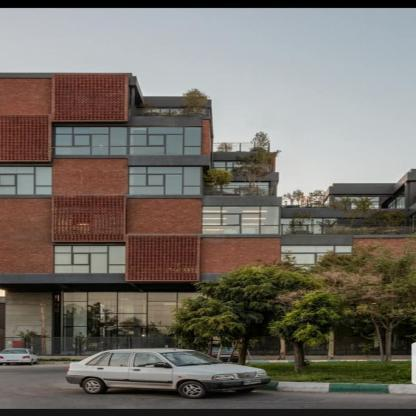Balcony: (279, 224, 416, 235), (201, 185, 277, 196), (129, 108, 211, 116), (213, 143, 270, 152)
Building Outline: (0, 72, 416, 356)
Dont: (162, 234, 416, 372), (63, 348, 272, 398), (0, 349, 39, 366)
Door: (118, 326, 143, 356)
Facade: (0, 209, 416, 356)
Floor: (0, 240, 416, 278), (0, 159, 277, 197), (0, 201, 281, 235), (0, 120, 211, 155), (281, 214, 416, 236), (329, 183, 416, 209)
Floor Slab: (0, 278, 416, 282), (0, 236, 416, 240), (0, 197, 281, 201), (0, 155, 277, 159), (0, 117, 211, 121), (281, 210, 416, 214)
Glass Wall: (52, 290, 410, 356)
Ground Floor: (0, 283, 416, 357)
Top Floor: (0, 96, 211, 116)
Window: (53, 125, 201, 155), (54, 242, 126, 273), (202, 206, 280, 234), (129, 166, 201, 195), (281, 245, 353, 273), (0, 166, 53, 195), (201, 181, 271, 196), (281, 218, 338, 235), (129, 107, 211, 116), (212, 161, 271, 173), (387, 191, 405, 209), (335, 196, 379, 202), (351, 202, 379, 209)
